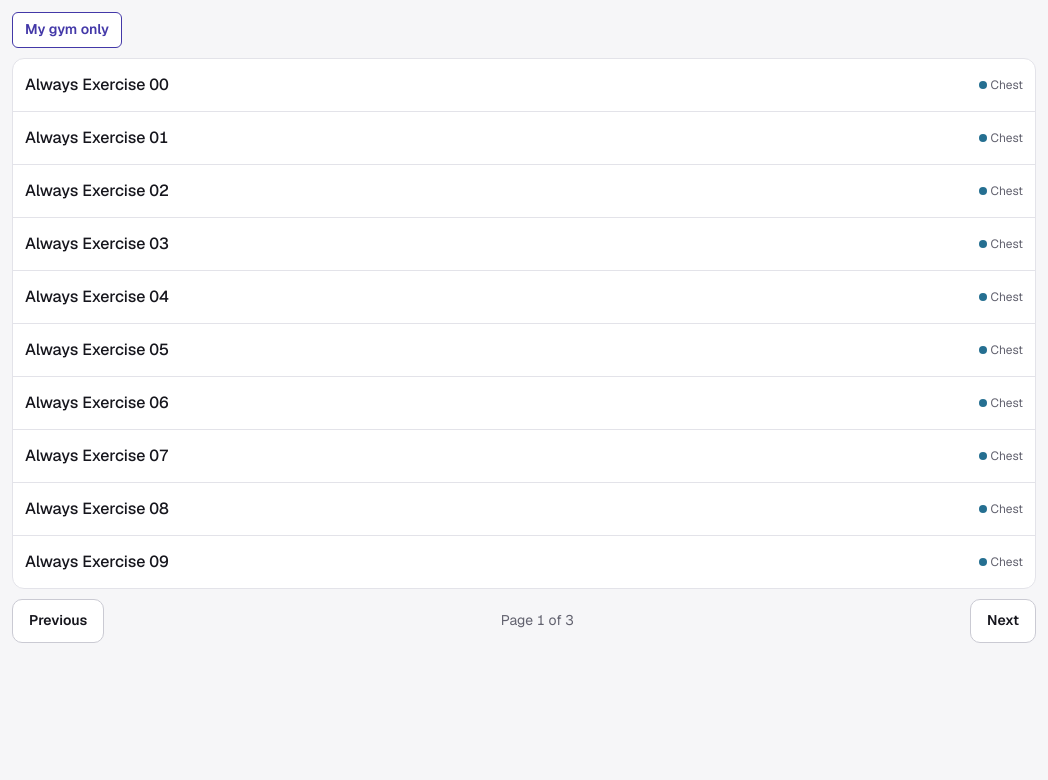
Test: O18 given the list on page 3, turning My gym only off (changing the result) returns the list to page 1
Click the button "Next". click: x=1003, y=621
box: [970,599,1036,643]
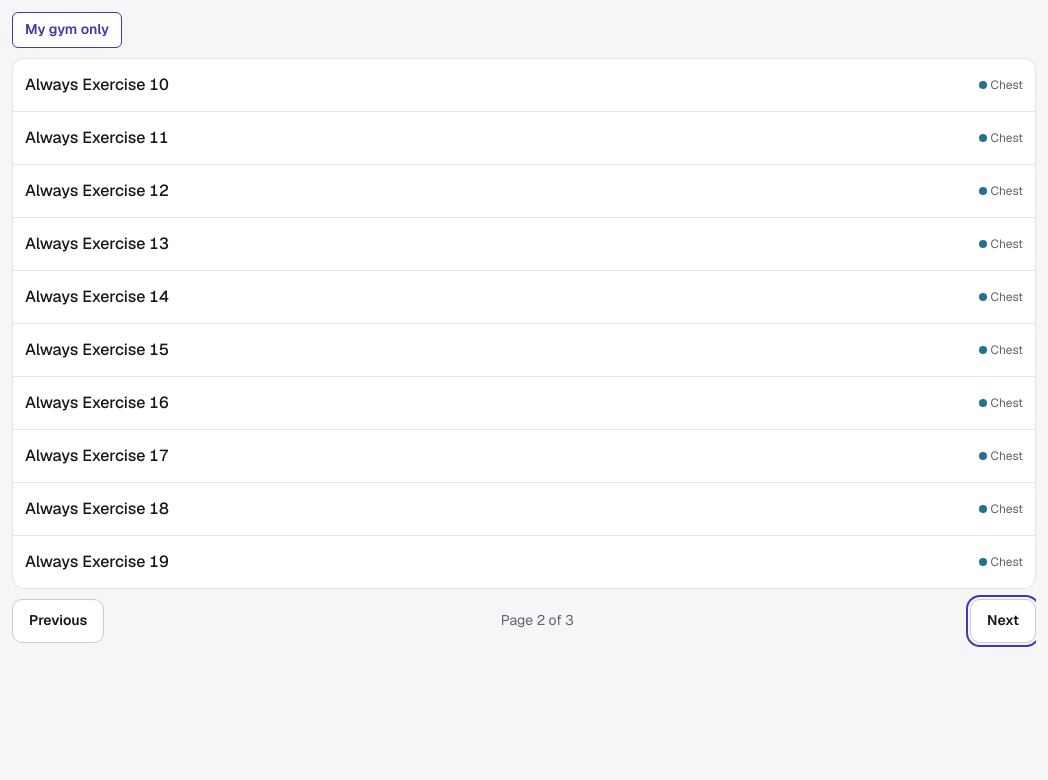
Click the button "Next". click: x=1003, y=621
box: [970,599,1036,643]
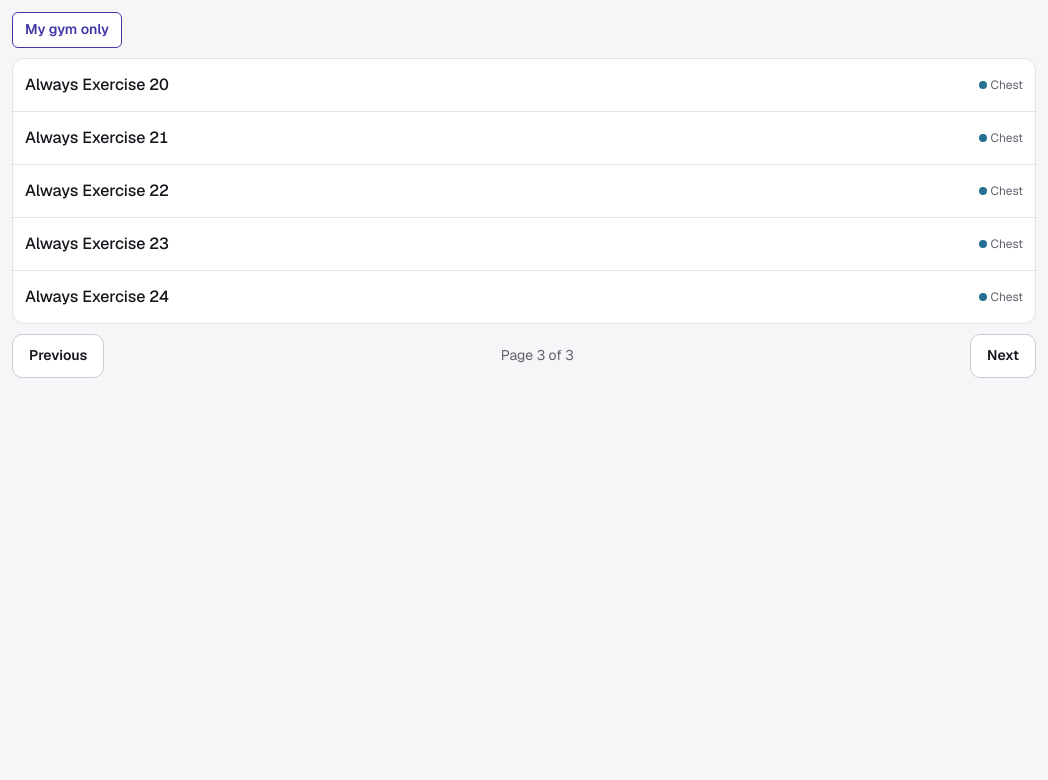
Result: the text "Page 3 of 3" is shown at [501,346,574,366]
Click the button "My gym only". click: x=67, y=30
box: [12,12,122,48]
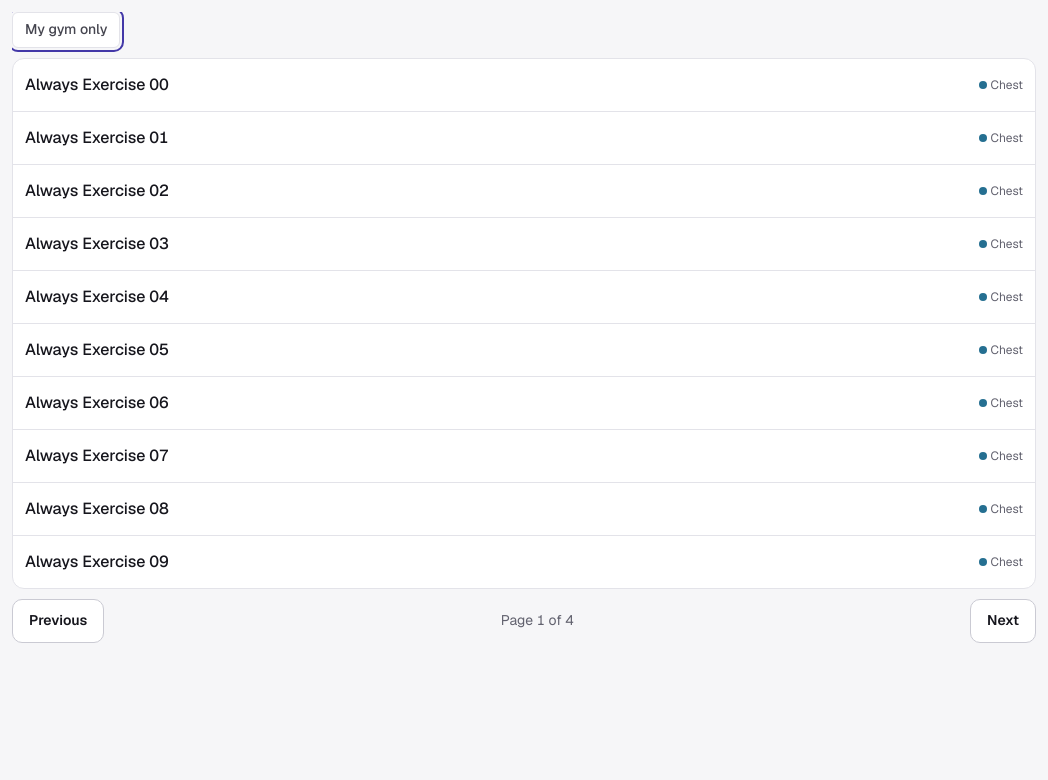
Result: the text "Page 1 of 4" is shown at [501,611,574,631]
